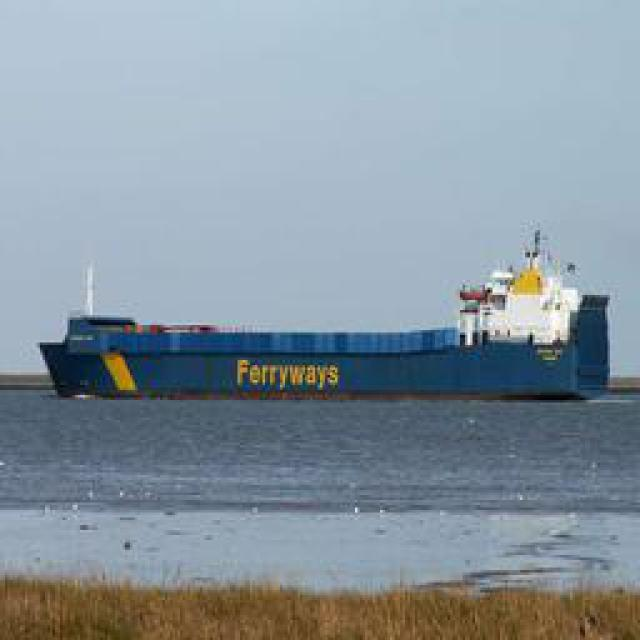Ship: (57, 241, 605, 406)
